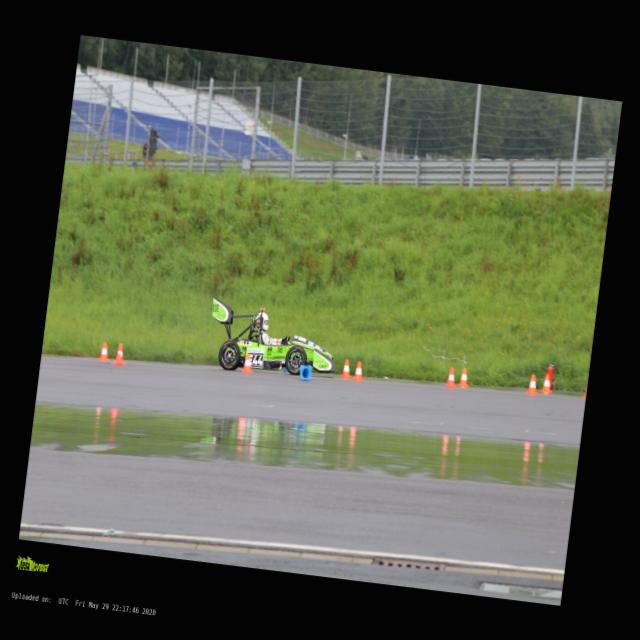blue_cone: (298, 364, 312, 381)
orange_cone: (112, 342, 130, 366), (351, 360, 366, 381), (444, 366, 458, 388), (241, 352, 255, 373), (97, 341, 111, 361), (526, 374, 540, 394), (540, 372, 554, 392), (457, 367, 470, 388), (340, 358, 353, 378)
